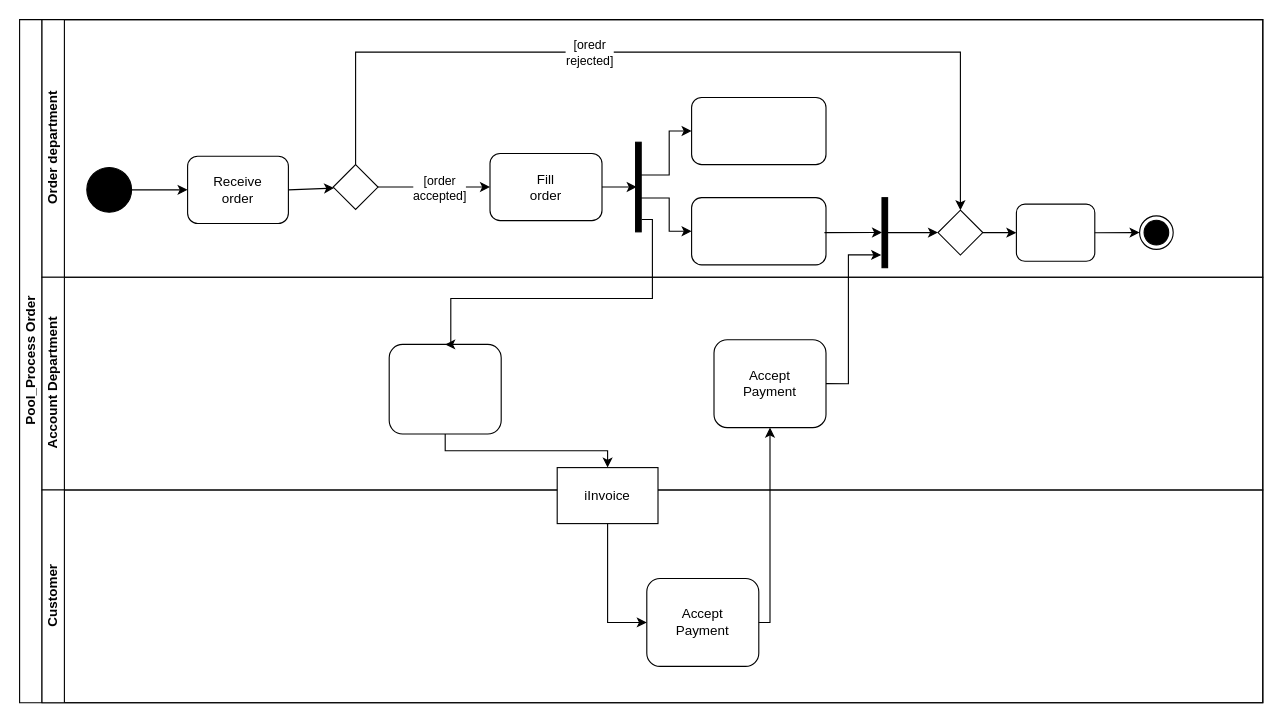
This 1282x722 diagram has some shape labels left out. The shapes that lost their labels are listed below. From the top down, each one's centre as x and y in pixels, then its label:
[758,130]: SaveTo Datebase
[758,231]: Ship Order
[1055,232]: Close Order
[444,388]: Send Invoice
